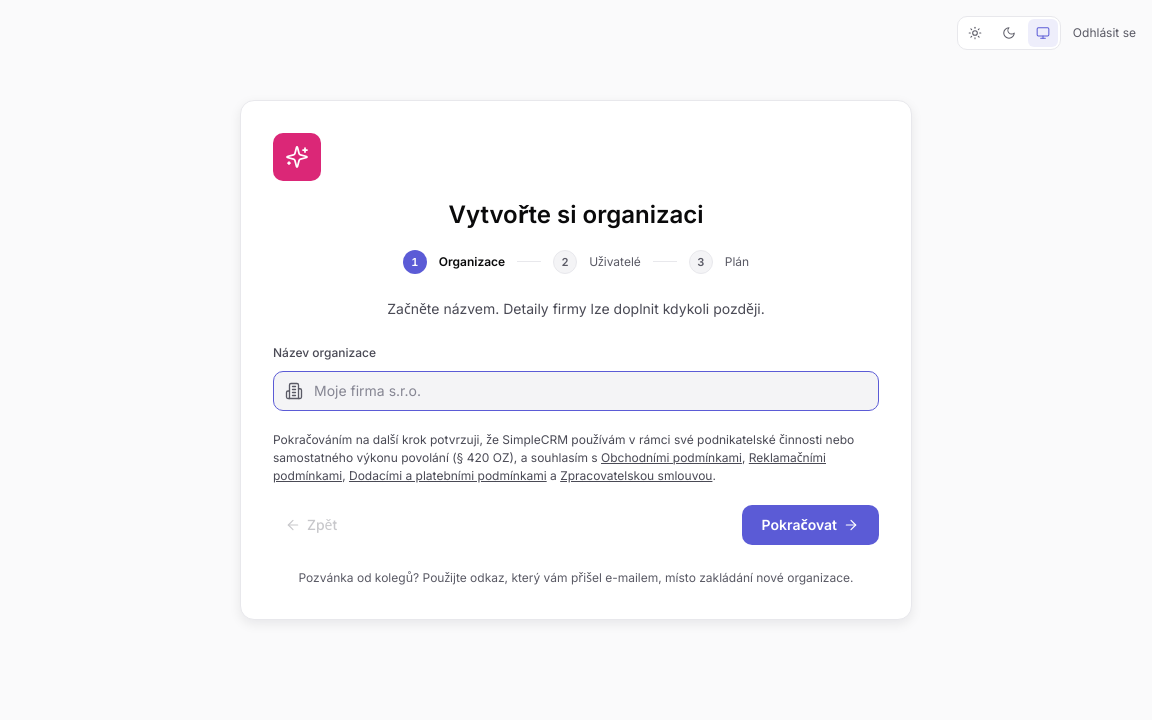
Scenario: CreateOrgPage business declaration › shows the declaration on the first step and continues without a checkbox
Check: the button with test id "onboarding-next" is enabled, box [742, 505, 879, 545]
Check: the element with test id "onboarding-declaration" shows "Pokračováním na další krok potvrzuji", box [273, 432, 854, 465]
Step 1. Type "Acme s.r.o." into the field with test id "onboarding-name-input" → [576, 391], box [273, 371, 879, 411]
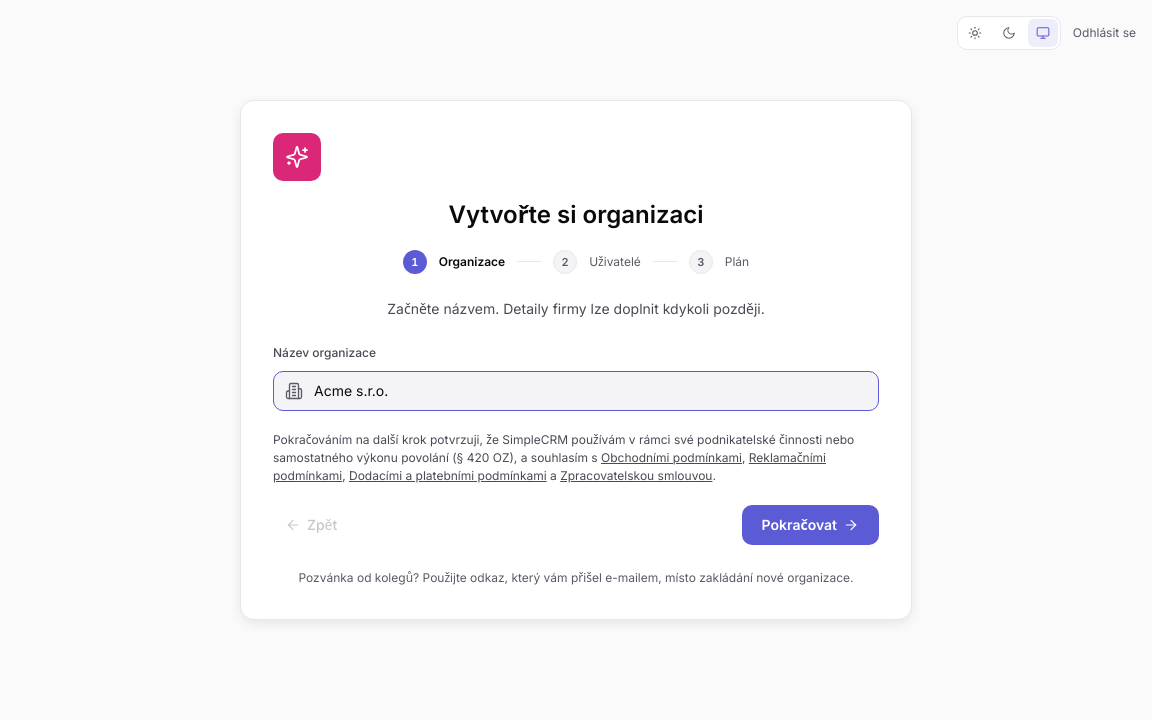
Step 2. Click the button with test id "onboarding-next" → [810, 525], box [742, 505, 879, 545]
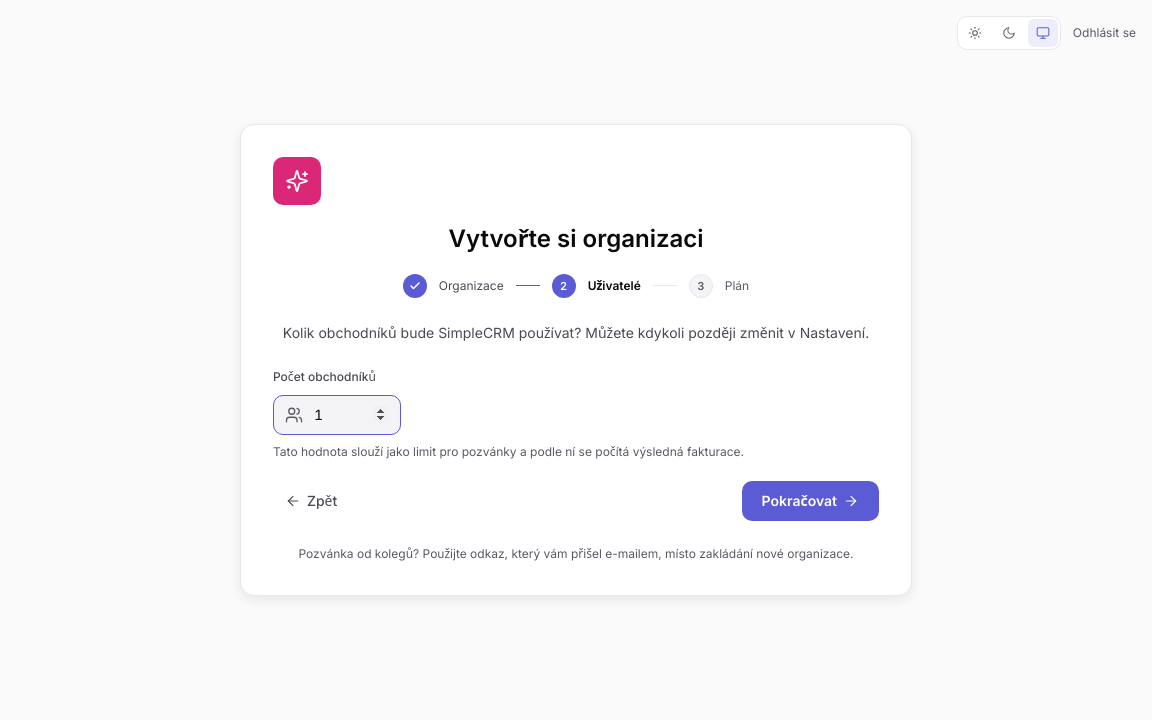
Check: the number field with test id "onboarding-seat-count-input" is shown, box [273, 395, 401, 435]
Check: the element with test id "onboarding-declaration" is gone
